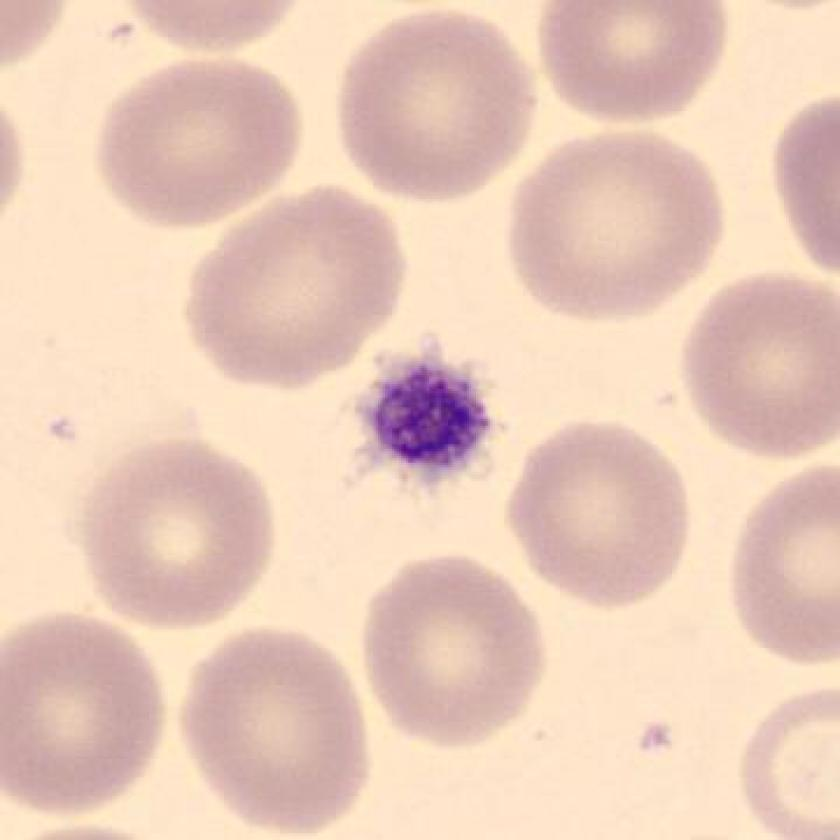platelets: (347, 346, 501, 496)
